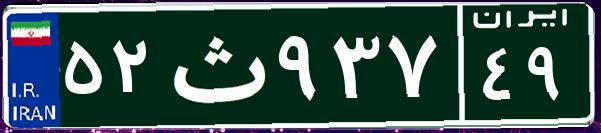2: (110, 28, 158, 105)
3: (330, 28, 385, 110)
4: (475, 38, 525, 113)
5: (57, 26, 110, 107)
7: (385, 28, 445, 110)
9: (273, 28, 330, 110), (525, 38, 570, 115)
ث: (158, 15, 273, 115)
